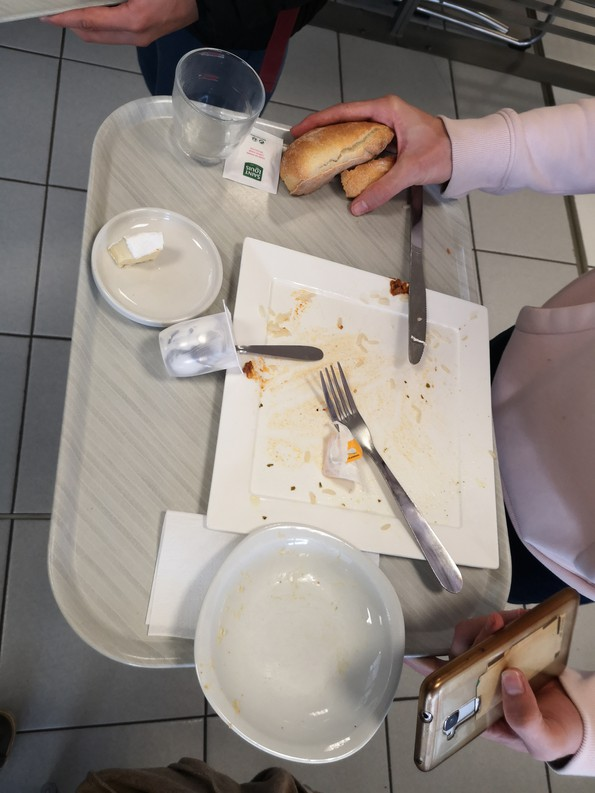cup: (157, 32, 275, 179)
cutlery: (313, 365, 464, 599), (403, 186, 430, 366), (241, 345, 326, 358)
trash: (152, 307, 246, 392), (313, 428, 365, 499), (227, 126, 276, 196)
